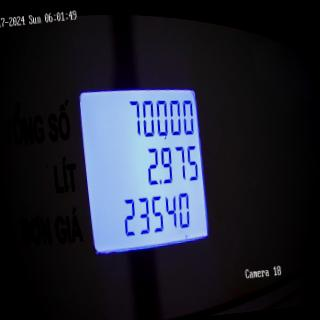screen: (72, 66, 216, 261)
